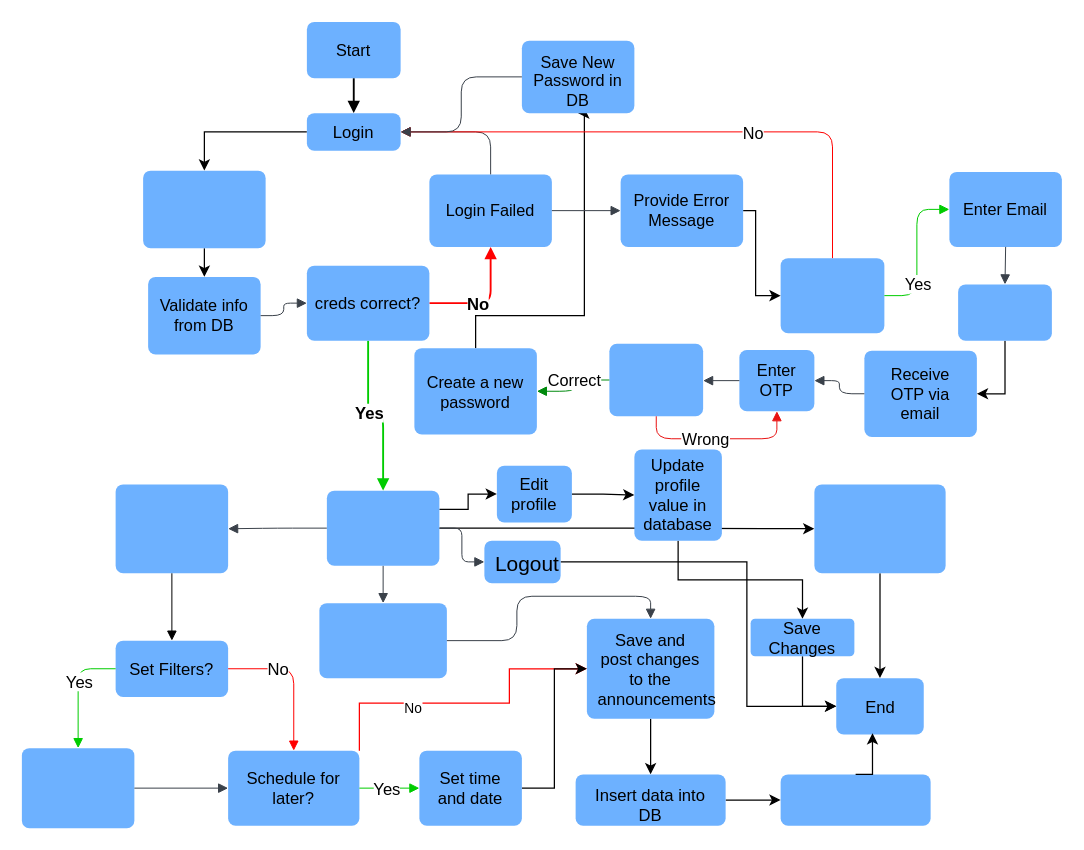
Image size: 1084x850. Some labels were removed from this diagram. The shapes that lost their labels are listed below. From the top down, each one's centre as x and y in pixels, then its label:
At [204,209]: "enter email and password".
At [832,295]: "Reset Password".
At [1004,311]: "Send OTP".
At [655,379]: "Validate OTP".
At [171,528]: "add announcement".
At [382,528]: "Admin Dashboard".
At [879,528]: "View Announcements Dashboard".
At [382,640]: "Edit/delete announcement".
At [77,787]: "Set wanted filters".
At [855,799]: "Send SMS alert".
